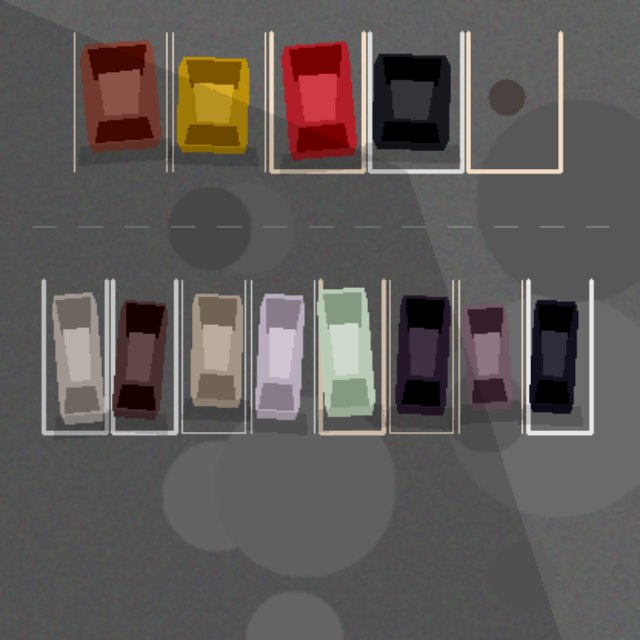space-empty: (468, 32, 560, 171)
space-occupied: (172, 32, 265, 171), (369, 32, 462, 171), (74, 32, 166, 171), (271, 32, 363, 171), (458, 280, 522, 432), (43, 280, 106, 432), (112, 280, 175, 432), (182, 280, 245, 432), (251, 280, 314, 432), (320, 280, 383, 432), (389, 280, 452, 432), (528, 280, 591, 432)
